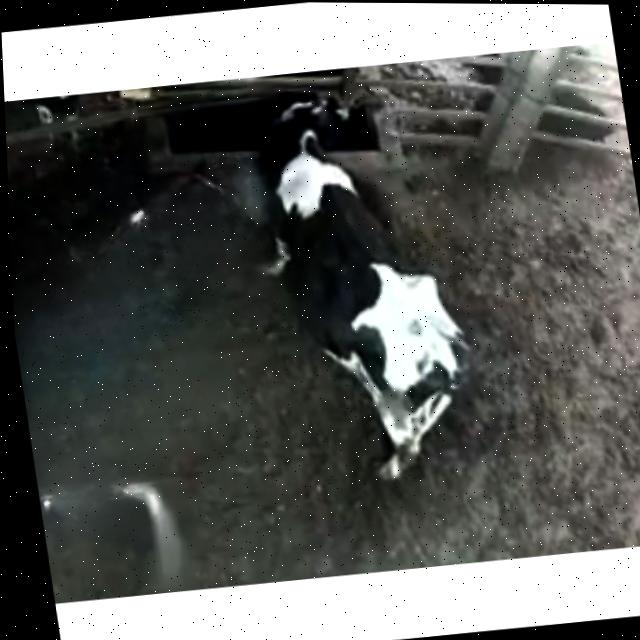drink: (222, 72, 383, 190)
